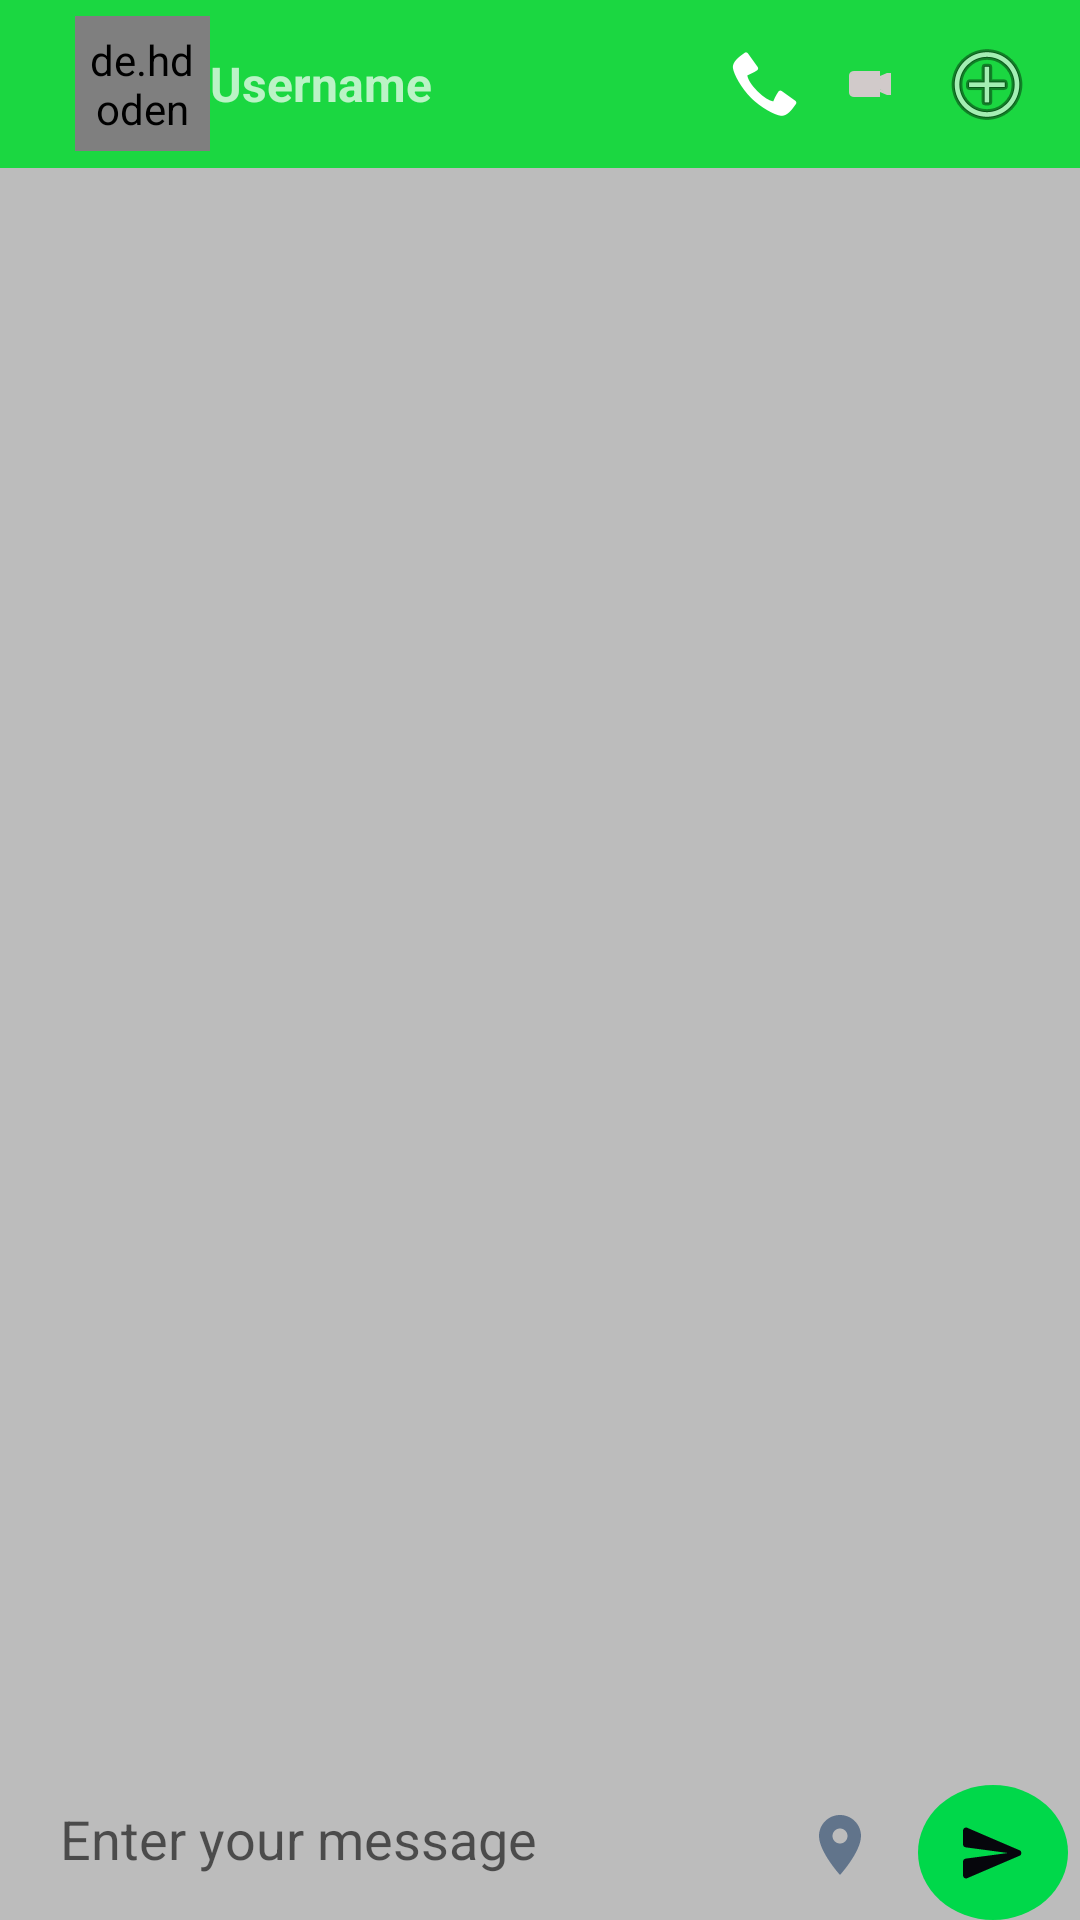

Point at icon controls on the screen. Image size 1080 × 1920, points as [x,y].
add: [987,84]
phone call: [765,84]
presence video away: [870,84]
send: [993,1852]
